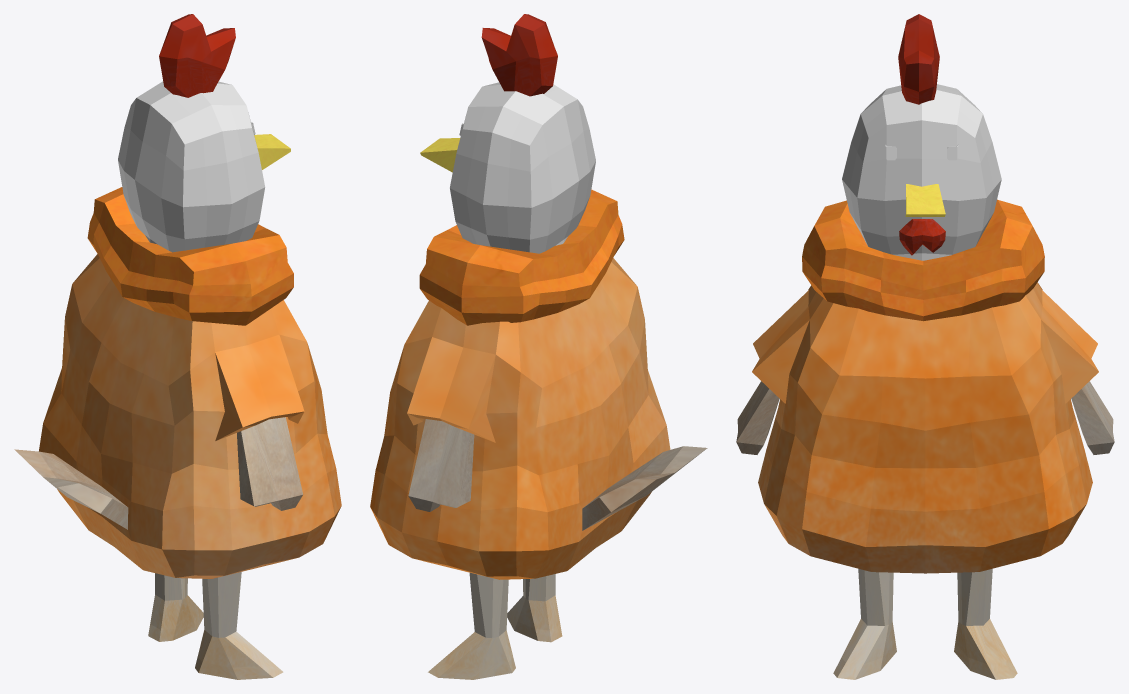
The model's file is angella.glb.
The picture shows the model from 3 angles, left to right: view 1: azimuth 30°, elevation 25°; view 2: azimuth 150°, elevation 25°; view 3: azimuth 270°, elevation 25°; orthographic projection.
Parts seen in each view (by area): view 1: Cube.045; view 2: Cube.045; view 3: Cube.045.
Boxes of the visible parts, x1,y1,x2,y2 form: Cube.045: (14,14,341,679); Cube.045: (370,14,707,679); Cube.045: (736,14,1114,679).
Size of the model in its own units: 1.26 by 3.08 by 1.65.
8 materials, 5 textured.
